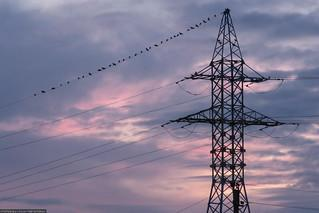power_tower: (164, 9, 282, 213)
